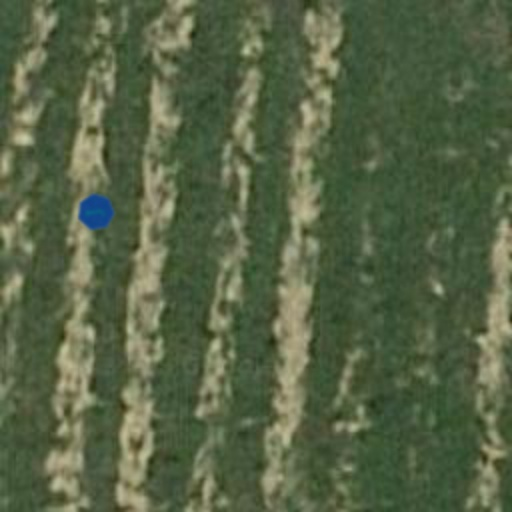heptagon: (74, 190, 118, 234)
